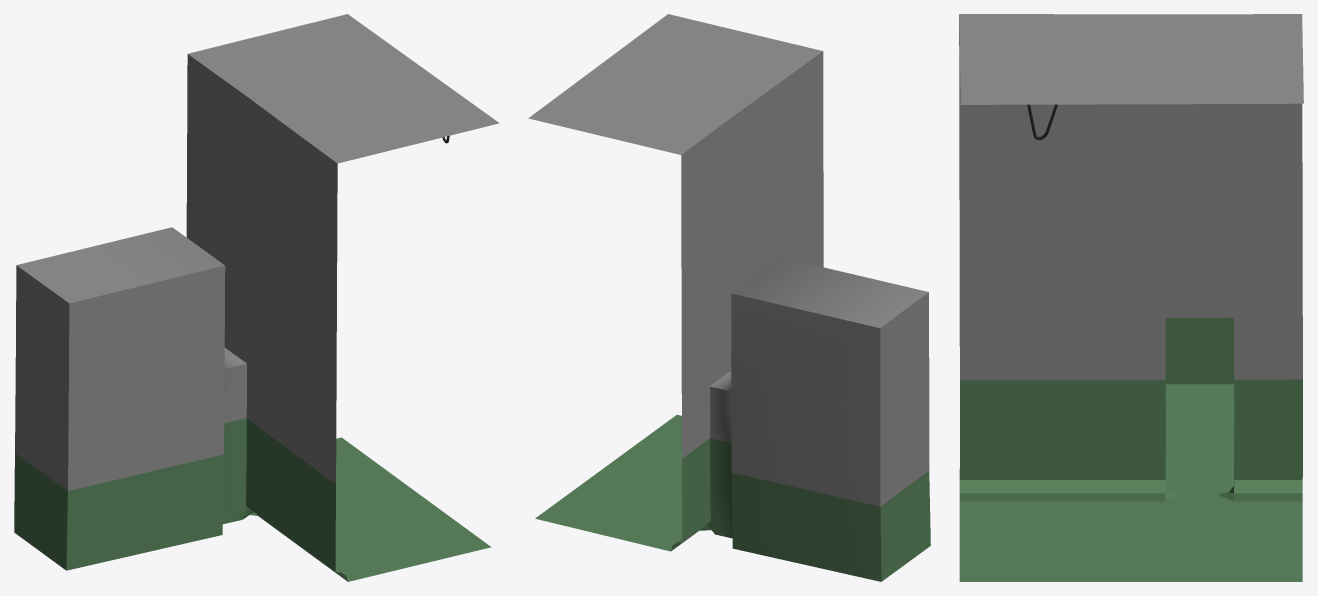
Rendered from mapa 10.fbx.
3 renders of one model, left to right at view 1: azimuth 30°, elevation 25°; view 2: azimuth 150°, elevation 25°; view 3: azimuth 270°, elevation 25°, orthographic. The views are drawn at different scales.
Visible parts, largest first — view 1: pPlane23; view 2: pPlane23; view 3: pPlane23.
Part boxes in pixels (left/top/right/bottom): pPlane23: left=14, top=14, right=499, bottom=581; pPlane23: left=528, top=14, right=930, bottom=581; pPlane23: left=959, top=14, right=1303, bottom=581.
Bounding box in the file's own units: 7.47 × 8.5 × 5.49.
